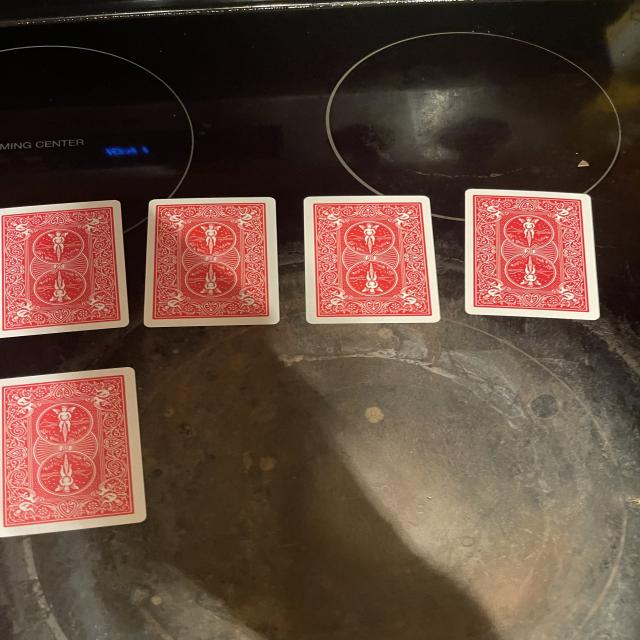card back: (0, 368, 147, 538), (143, 198, 280, 328), (465, 189, 600, 320), (0, 200, 128, 338), (303, 196, 440, 324)
